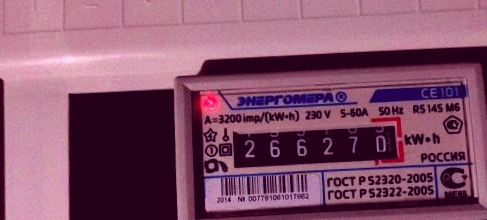0: (373, 132, 386, 153)
2: (241, 137, 256, 158), (320, 134, 333, 156)
6: (267, 137, 281, 158), (293, 136, 307, 156)
7: (345, 133, 359, 155)
screen: (222, 112, 411, 177)
